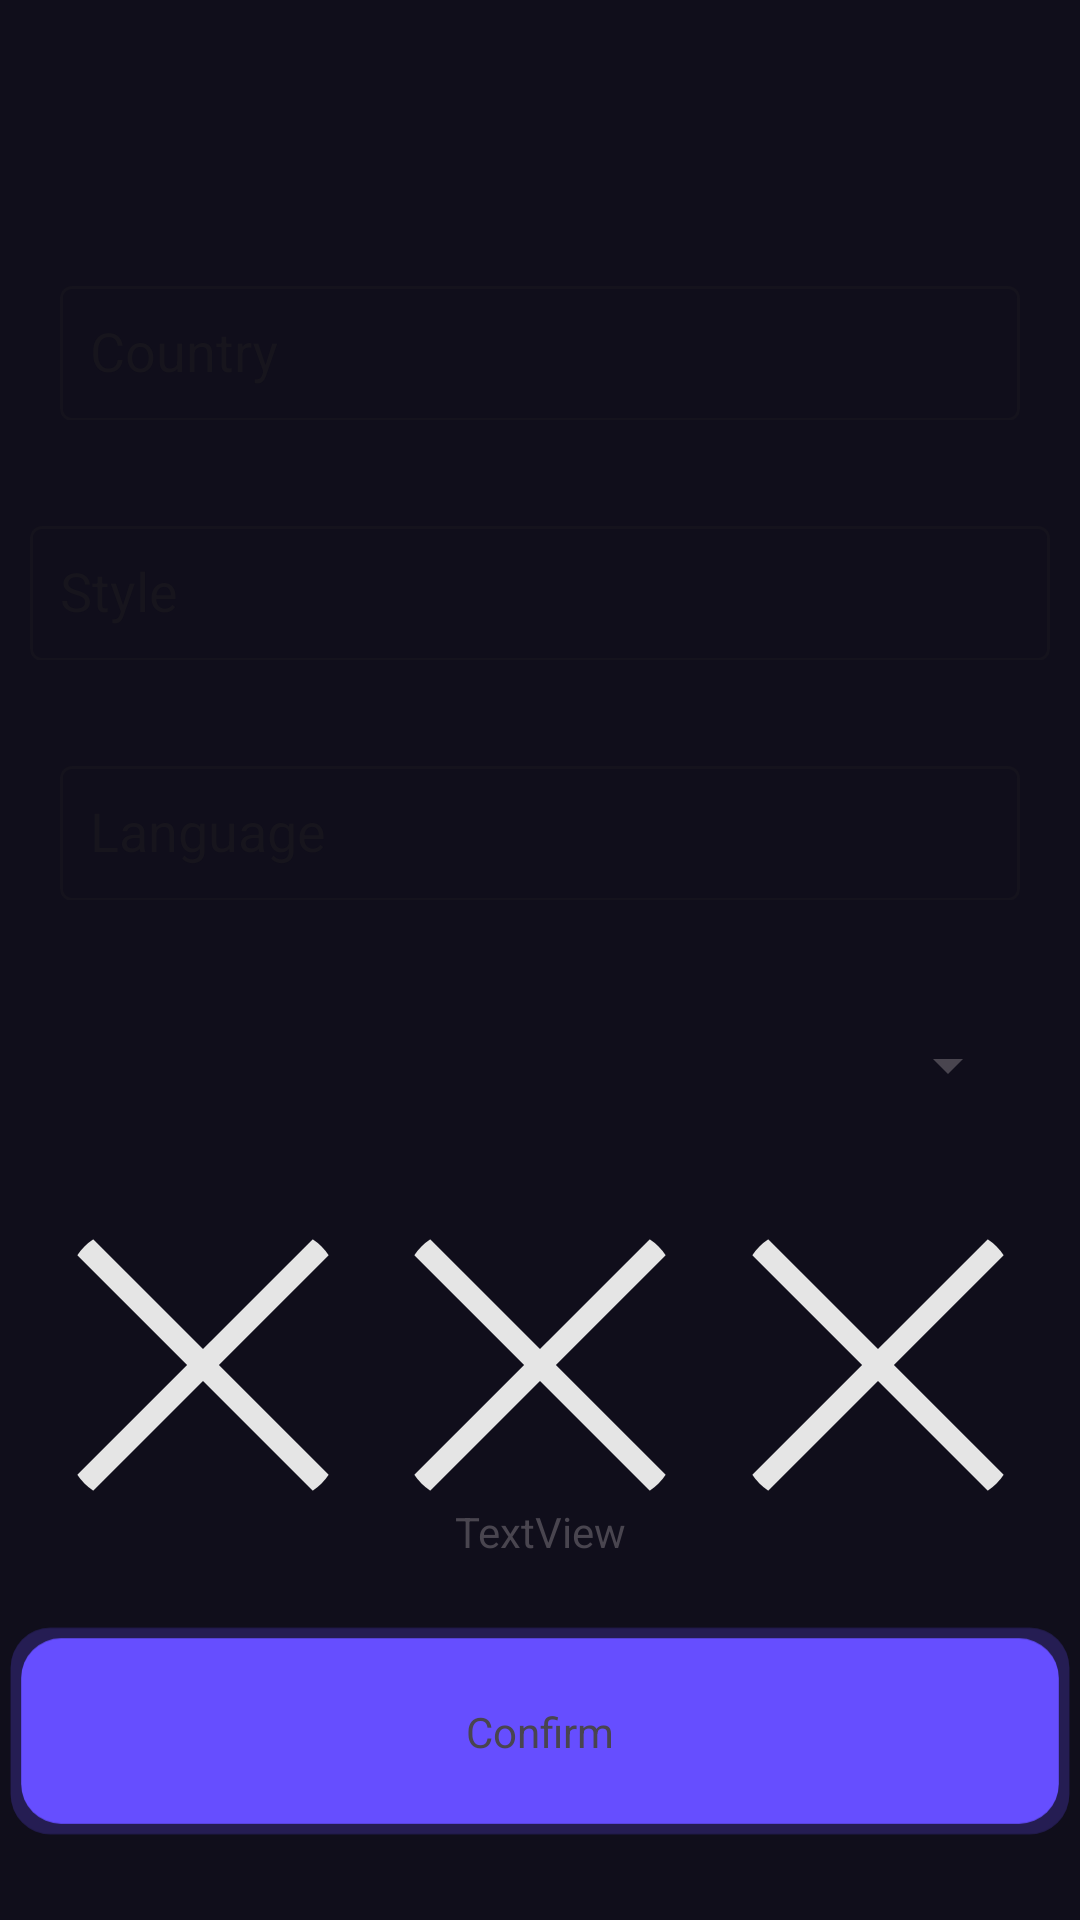

Where to tap for icons on this 1080px×1920px app screen, as [x,y]:
delete save: [203,1365], [540,1365], [878,1365]
